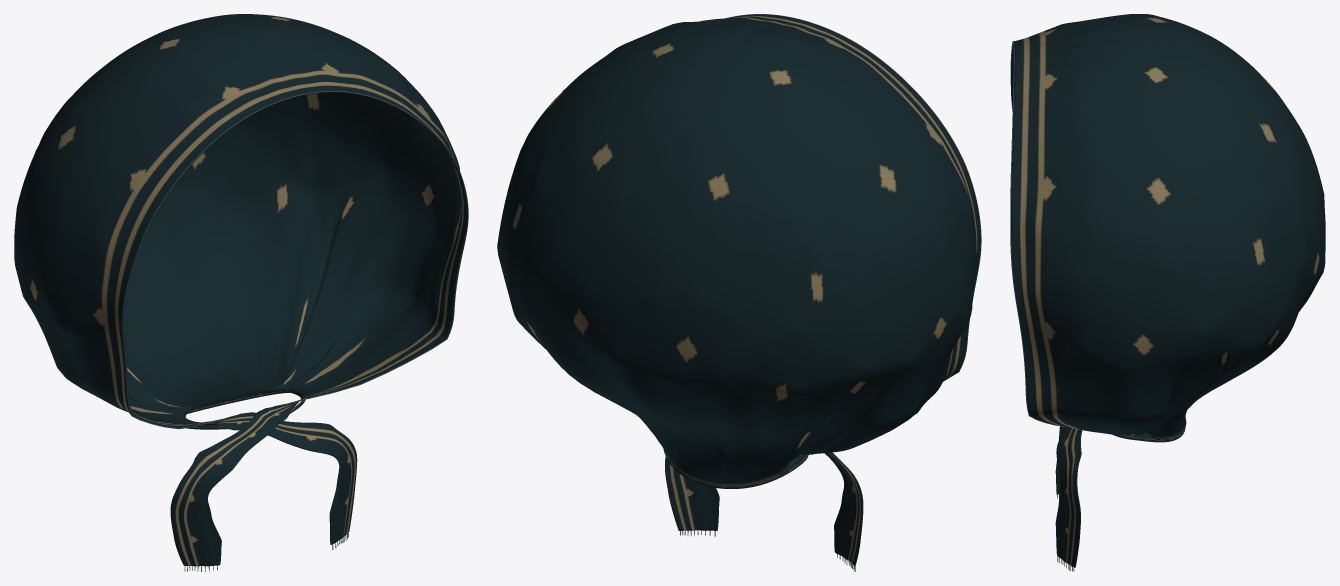
File: Masculine-afro-sweatshirt-pashmina249-headgear.glb
The picture shows the model from 3 angles, left to right: view 1: azimuth 30°, elevation 25°; view 2: azimuth 150°, elevation 25°; view 3: azimuth 270°, elevation 25°; orthographic projection. The views are drawn at different scales.
Visible parts, largest first — view 1: 226 headgear / Headwear / continuous woven pashmina239, 226 headgear / Headwear / face edge239; view 2: 226 headgear / Headwear / continuous woven pashmina239, 226 headgear / Headwear / face edge239; view 3: 226 headgear / Headwear / continuous woven pashmina239, 226 headgear / Headwear / face edge239.
Boxes of the visible parts, left/top/right/bottom form: 226 headgear / Headwear / continuous woven pashmina239: left=14, top=14, right=467, bottom=566; 226 headgear / Headwear / face edge239: left=122, top=91, right=468, bottom=429; 226 headgear / Headwear / continuous woven pashmina239: left=497, top=14, right=980, bottom=566; 226 headgear / Headwear / face edge239: left=726, top=14, right=981, bottom=380; 226 headgear / Headwear / continuous woven pashmina239: left=1011, top=14, right=1325, bottom=567; 226 headgear / Headwear / face edge239: left=1010, top=41, right=1058, bottom=425.
Size of the model in its own units: 1.24 by 1.5 by 0.8609.
Materials: 3 (1 with a texture image).
